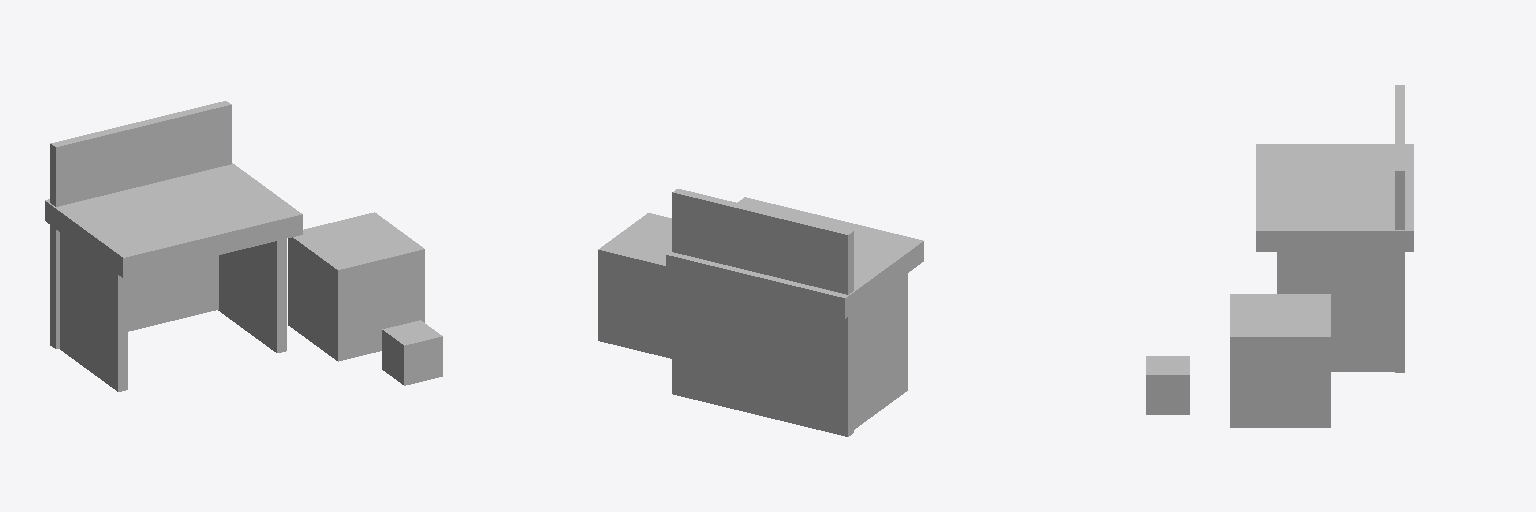
The model's file is test_map.obj.
3 renders of one model, left to right at view 1: azimuth 30°, elevation 25°; view 2: azimuth 150°, elevation 25°; view 3: azimuth 270°, elevation 25°, orthographic.
Parts seen in each view (by area): view 1: Cube.004, Cube.003, Cube, Cube.002, Cube.001, Cube.005; view 2: Cube.004, Cube.003, Cube, Cube.002; view 3: Cube.003, Cube, Cube.001, Cube.004, Cube.005.
Boxes of the visible parts, <box> form: Cube.004: <box>50,101,231,348</box>; Cube.003: <box>45,163,302,277</box>; Cube: <box>288,212,424,361</box>; Cube.002: <box>60,232,127,391</box>; Cube.001: <box>218,239,286,352</box>; Cube.005: <box>382,320,442,385</box>; Cube.004: <box>672,189,853,436</box>; Cube.003: <box>666,197,923,318</box>; Cube: <box>598,213,671,358</box>; Cube.002: <box>854,273,907,429</box>; Cube.003: <box>1256,144,1413,251</box>; Cube: <box>1230,294,1330,427</box>; Cube.001: <box>1277,252,1394,371</box>; Cube.004: <box>1395,85,1404,372</box>; Cube.005: <box>1146,356,1189,414</box>.
Size of the model in its own units: 13.56 by 9.11 by 10.89.